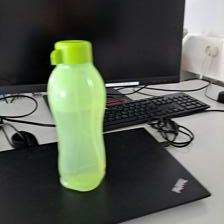bottle: (44, 38, 108, 191)
